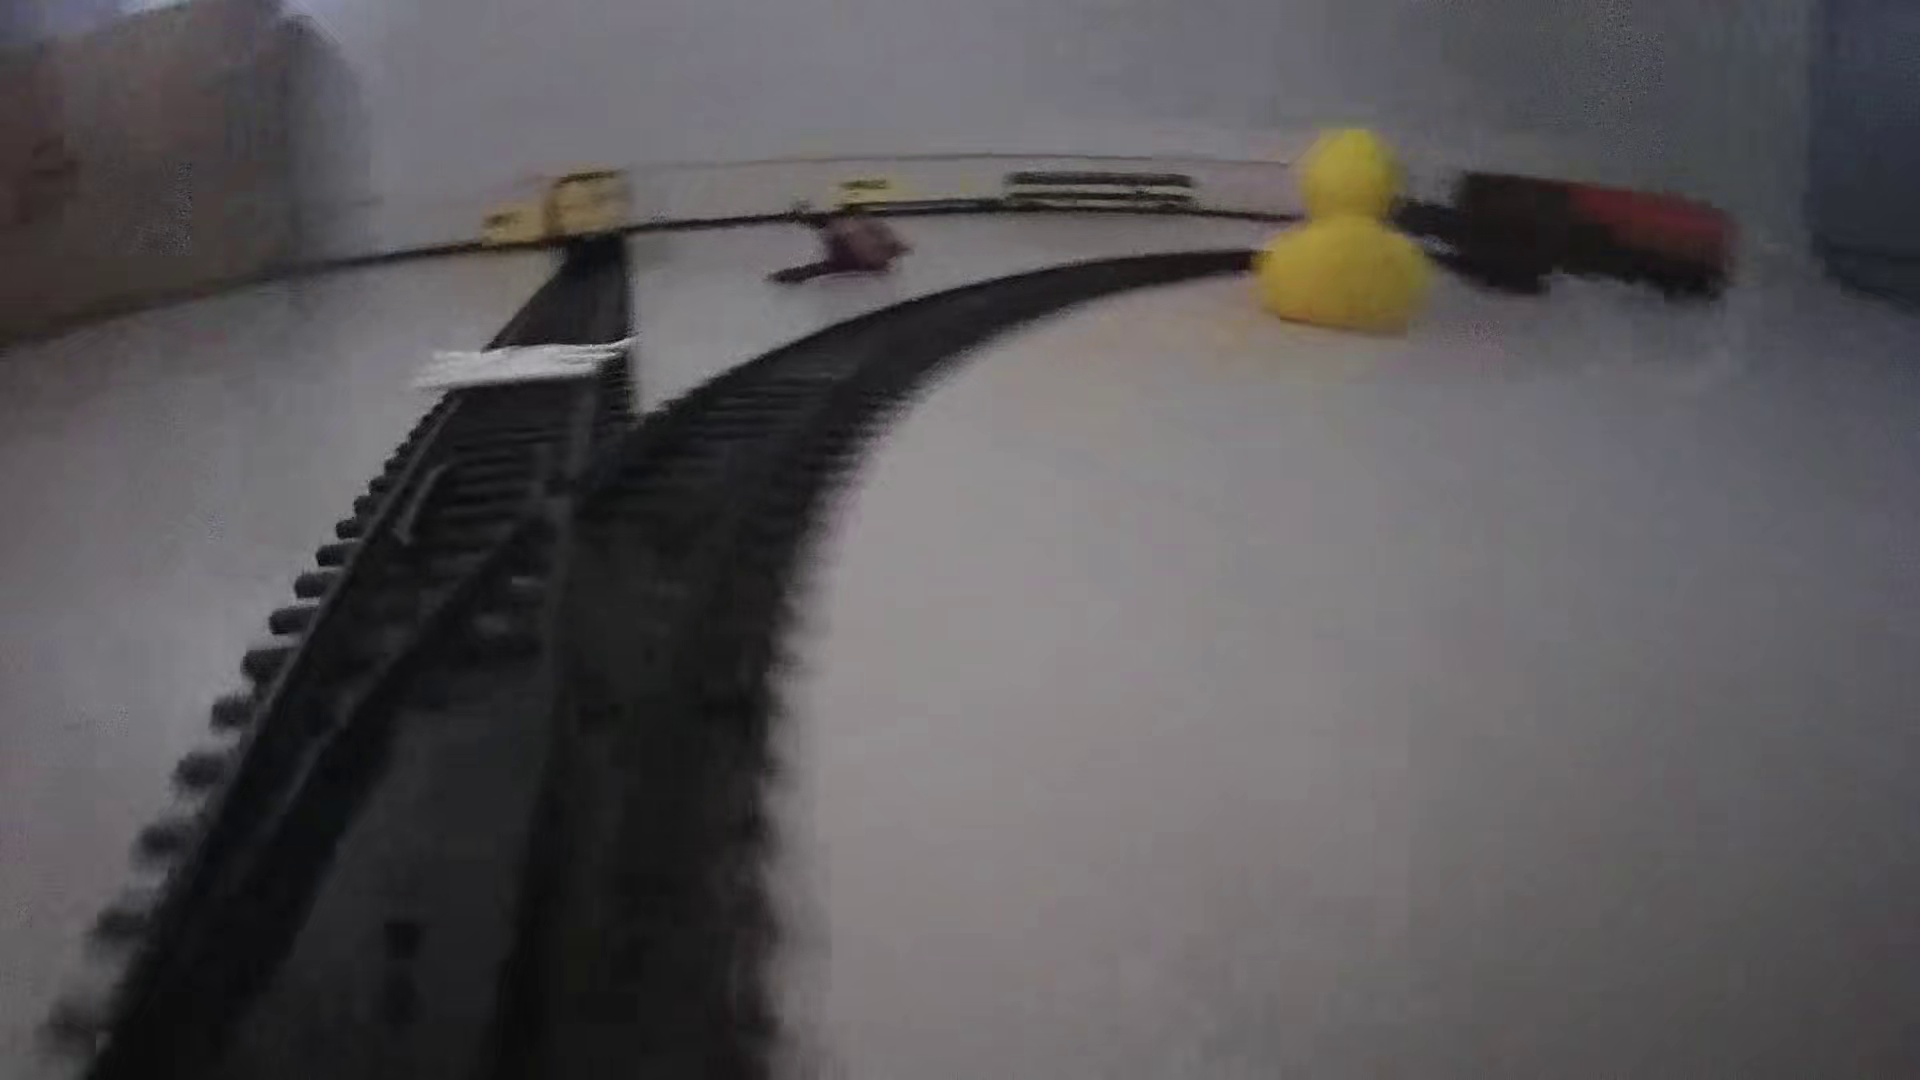people: (761, 193, 916, 288)
web: (395, 328, 639, 406)
